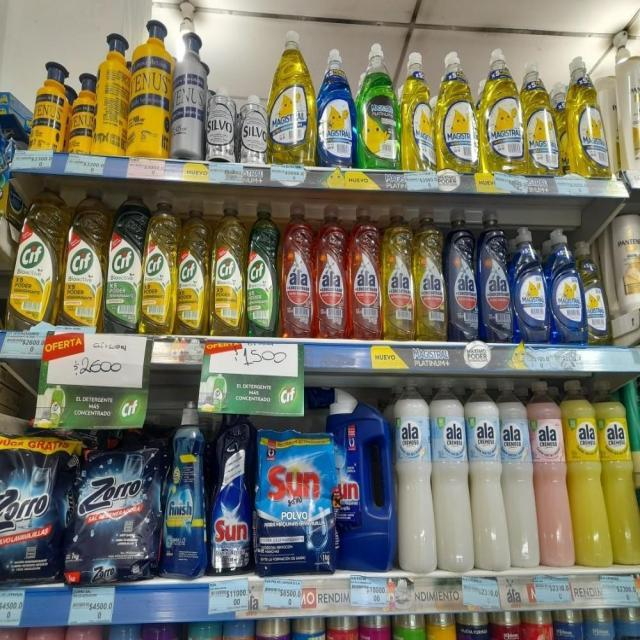ala_conc_amarillo: (383, 202, 414, 342), (415, 204, 446, 342)
ala_conc_azul: (479, 207, 512, 343), (447, 205, 478, 343)
ala_conc_rojo: (280, 199, 314, 339), (315, 200, 347, 340), (349, 202, 381, 341)
ala_crem_amarillo: (567, 378, 603, 568), (602, 377, 638, 567)
ala_crem_blanco: (394, 378, 432, 575), (432, 376, 469, 574), (469, 377, 503, 574), (502, 379, 534, 572), (223, 617, 256, 640)
ala_crem_rosado: (533, 379, 567, 571), (64, 624, 103, 640), (25, 626, 63, 640), (0, 627, 24, 640)
cif_conc_bot_amarilla: (12, 182, 60, 328), (62, 183, 104, 328), (142, 190, 176, 335), (211, 198, 245, 336), (177, 199, 209, 335)
cif_conc_botella_verde: (105, 185, 142, 333), (246, 200, 278, 338)
heroe: (359, 614, 393, 640)
magistral_con_amarillo: (269, 28, 315, 166), (480, 48, 524, 175), (566, 53, 610, 177), (437, 50, 478, 173), (524, 55, 560, 176), (401, 49, 435, 172), (584, 237, 608, 346)
magistral_con_azul: (316, 47, 355, 168), (549, 227, 584, 345), (513, 224, 547, 344)
